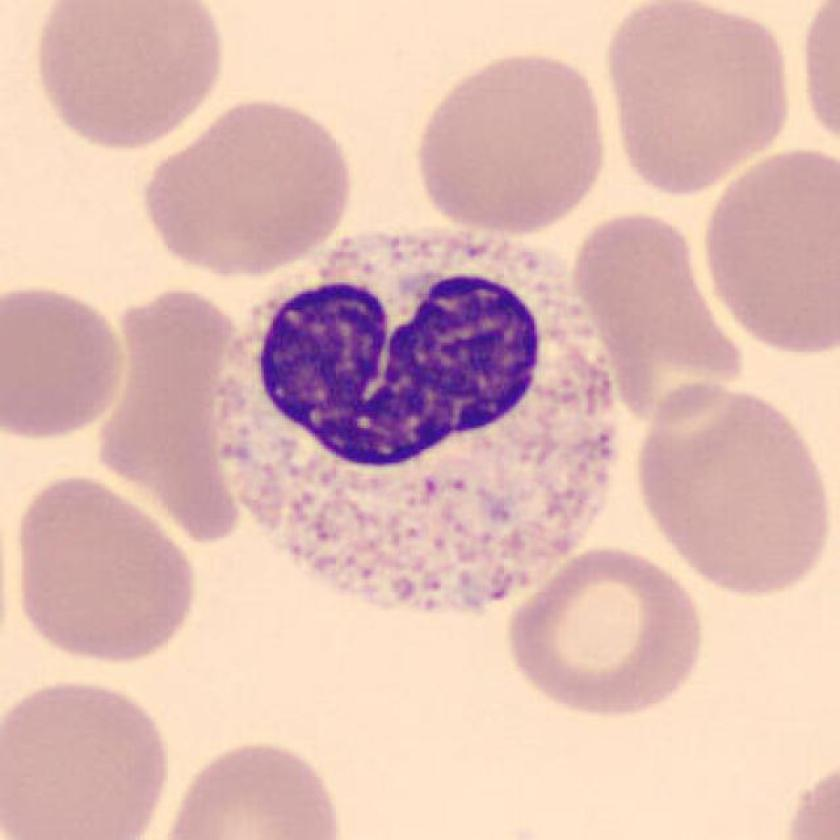neutrophil: (214, 229, 614, 614)
